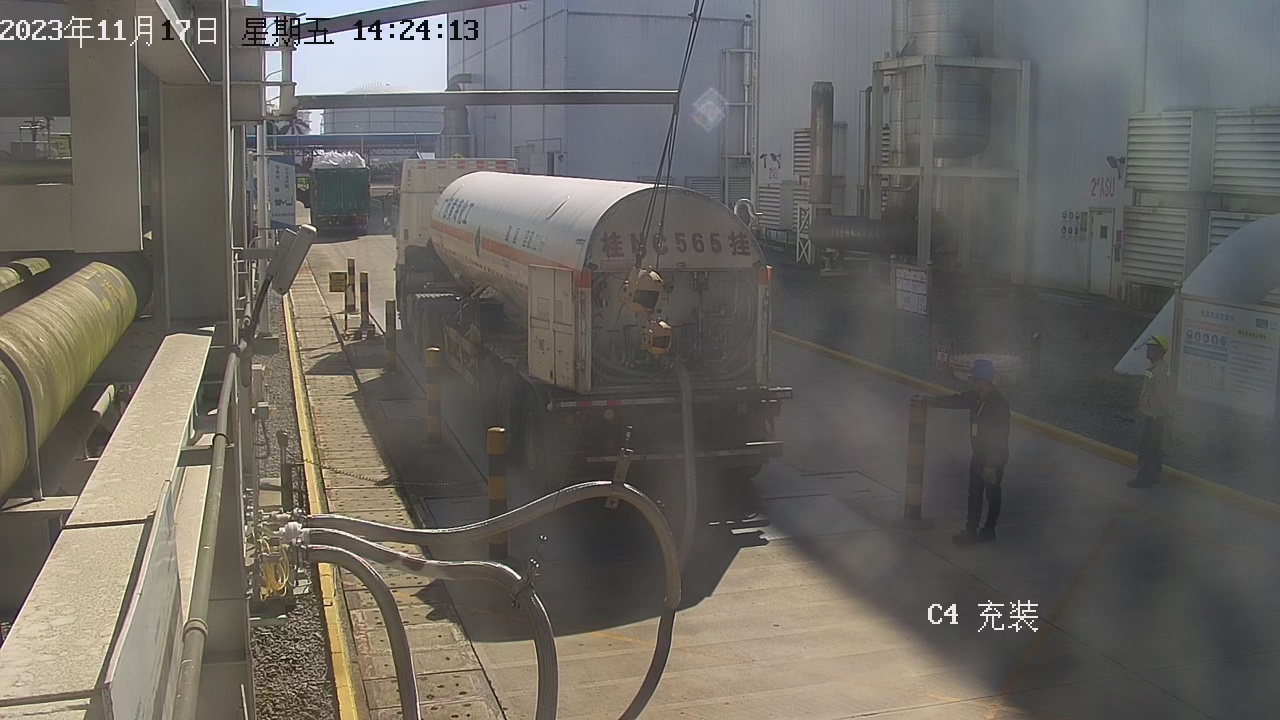Head_with_Helmet: (1135, 333, 1172, 365), (959, 356, 1001, 384)
Uniform: (1121, 354, 1193, 491), (960, 392, 1015, 547)
